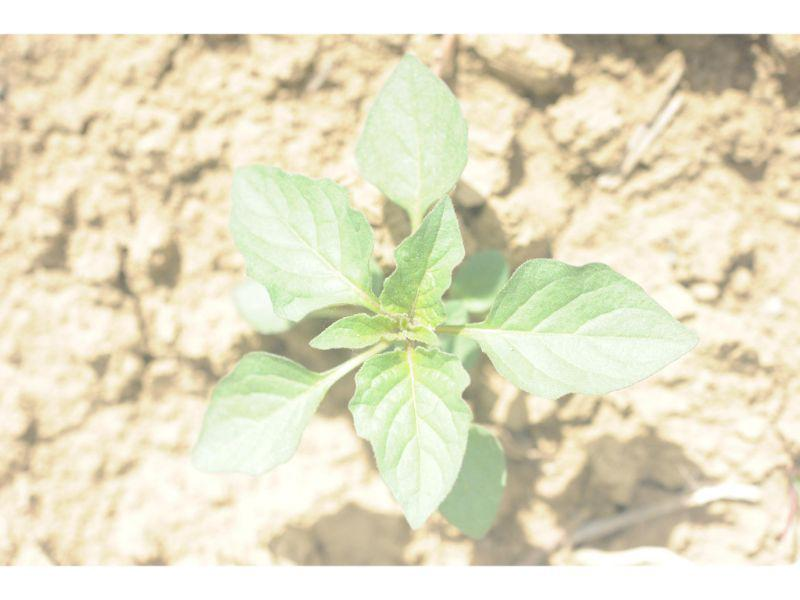nightshade: (189, 50, 699, 537)
